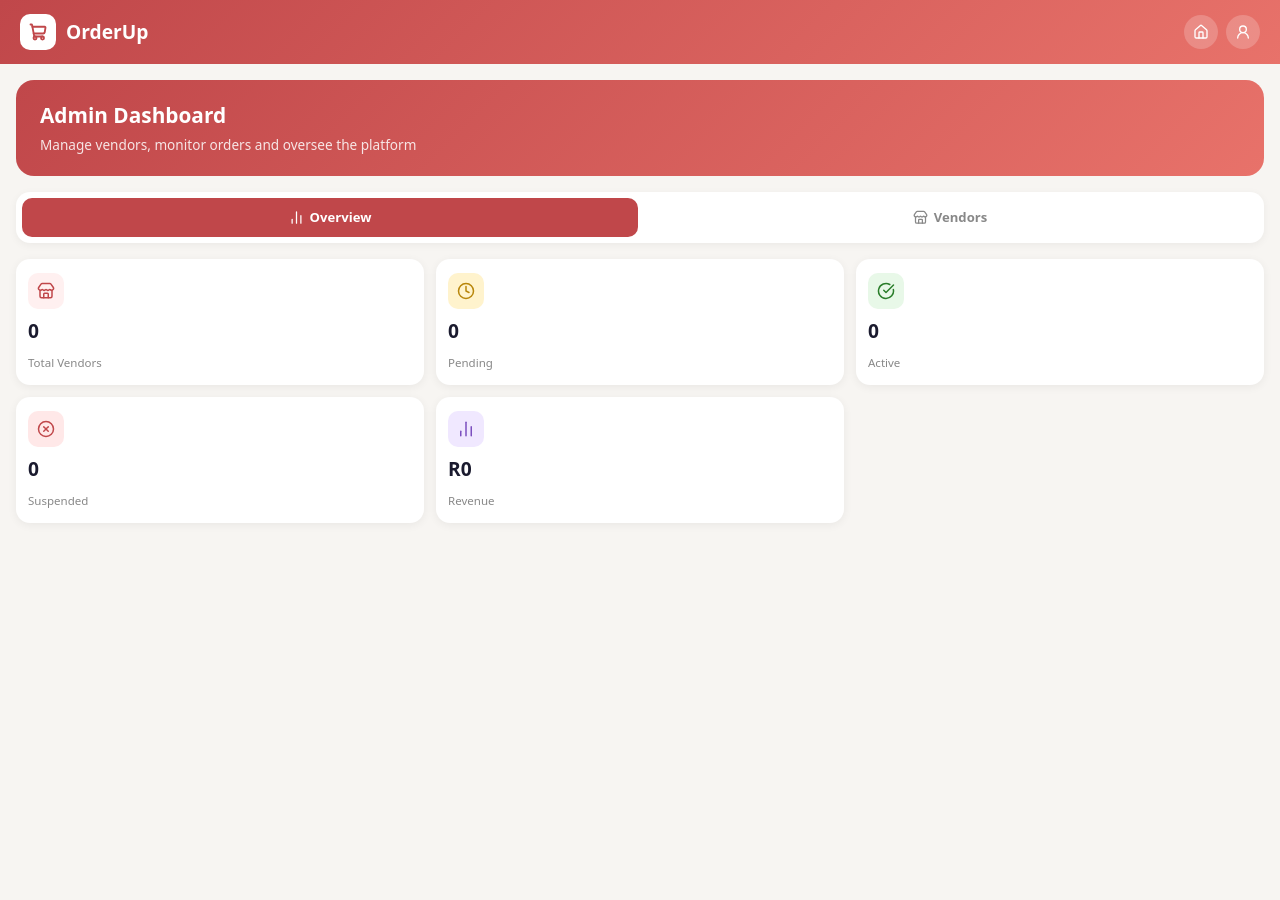
Scenario: AdminDashboard › shows "No vendors found" when search has no matches
Expected: the text "Total Vendors" is shown, [28,355,102,370]
Click the button "Vendors". click: (950, 217)
box: [642,198,1258,237]
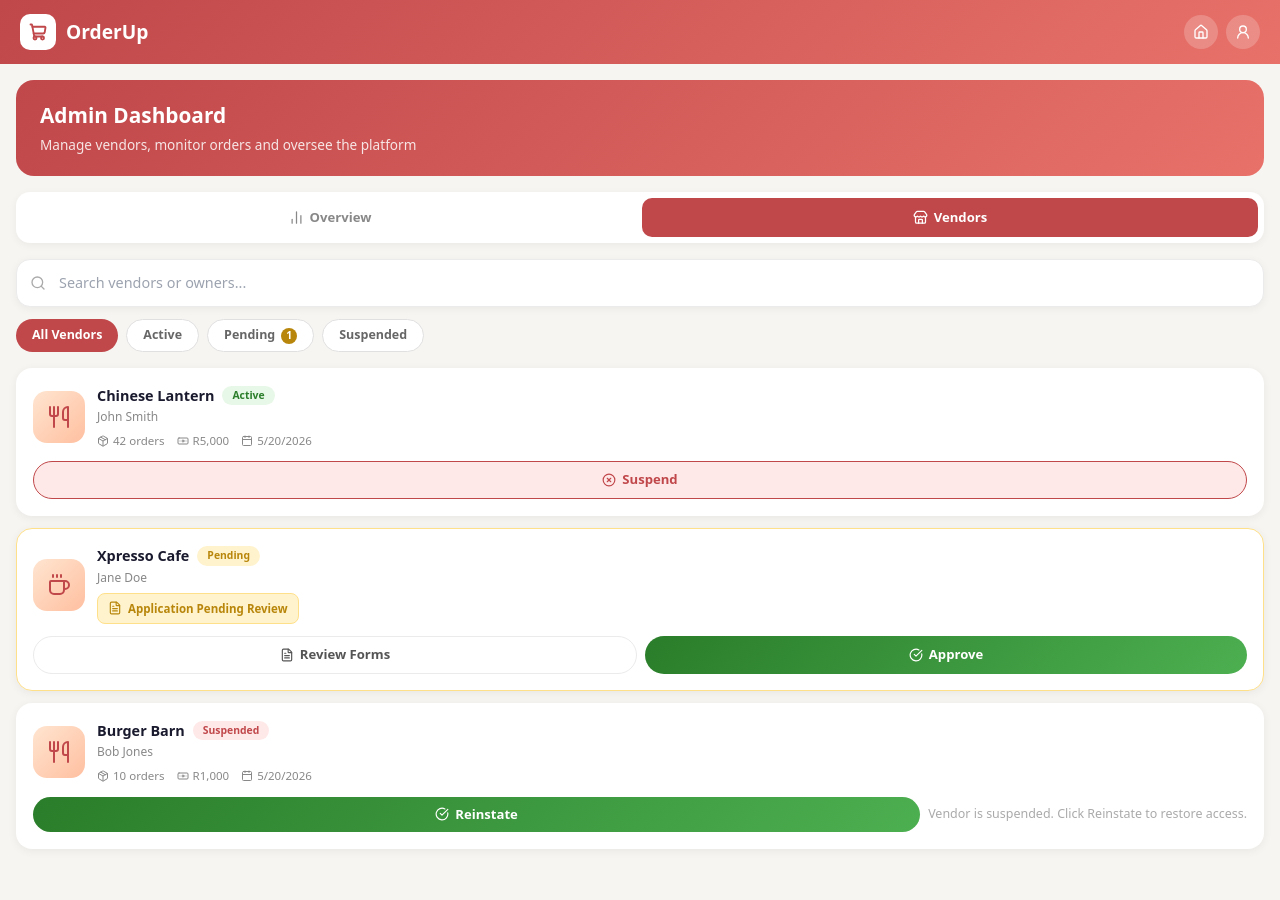
Expected: the heading "Chinese Lantern" is shown, [97,385,214,406]
Type "zzznomatch" into the field with placeholder "Search vendors or owners...". click: (640, 283)
box: [16,259,1264,307]
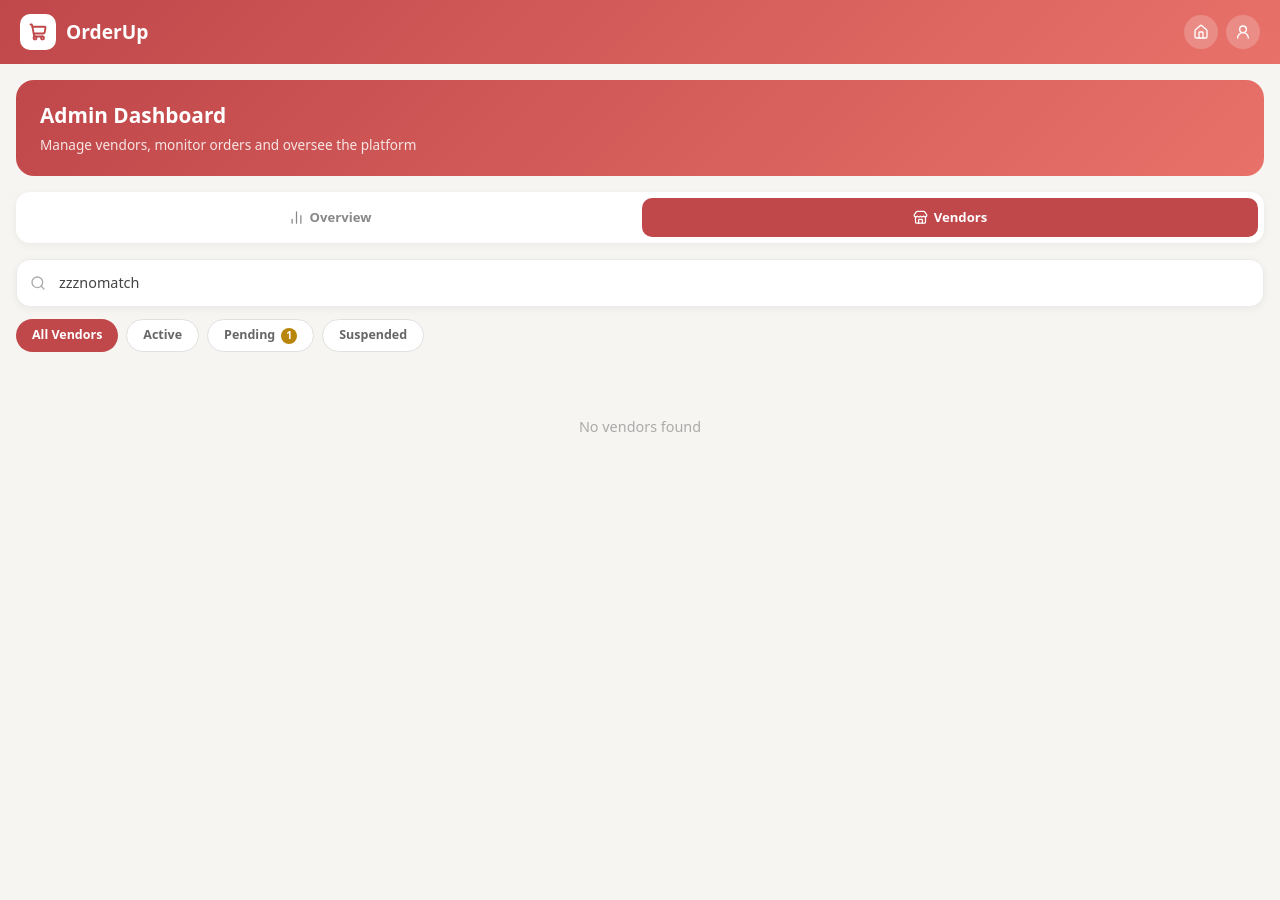
Expected: the text "No vendors found" is shown, [579,417,701,436]
